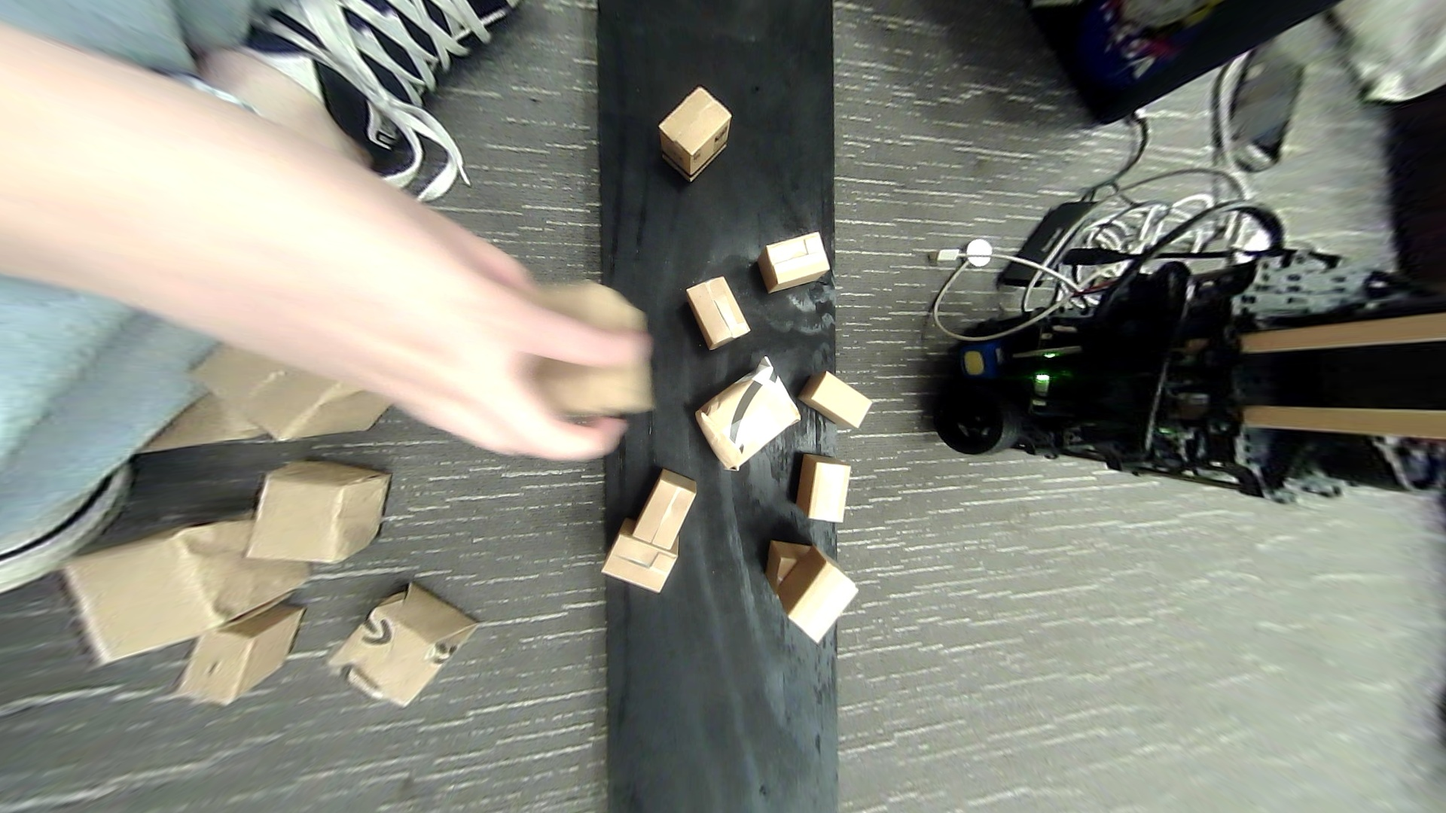empty_space: (728, 643, 850, 802), (723, 11, 825, 182), (618, 631, 728, 774)
package: (761, 522, 847, 632), (674, 376, 783, 445), (674, 266, 766, 330), (608, 520, 686, 582), (798, 358, 866, 428), (646, 102, 723, 163), (758, 235, 838, 286), (640, 469, 692, 532), (795, 458, 845, 520)
poor_spacing: (677, 343, 871, 462), (669, 209, 837, 327), (761, 440, 862, 632), (603, 455, 679, 592)
